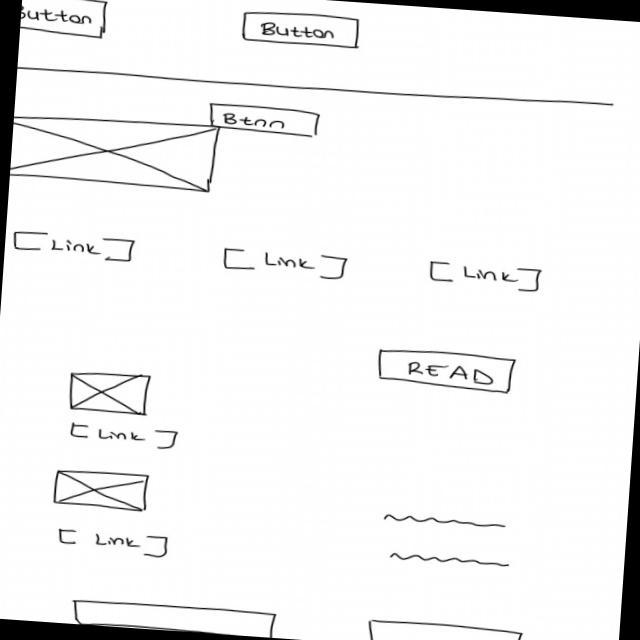button: (375, 345, 518, 395), (238, 8, 362, 50), (208, 100, 322, 136), (19, 0, 108, 39)
image: (9, 108, 220, 192), (51, 467, 150, 512), (67, 368, 153, 418)
input: (70, 596, 278, 638), (365, 617, 524, 640)
link: (220, 244, 350, 282), (426, 258, 546, 296), (9, 228, 138, 263), (58, 527, 170, 559), (67, 422, 180, 451)
text: (380, 510, 510, 532), (387, 550, 516, 570)
